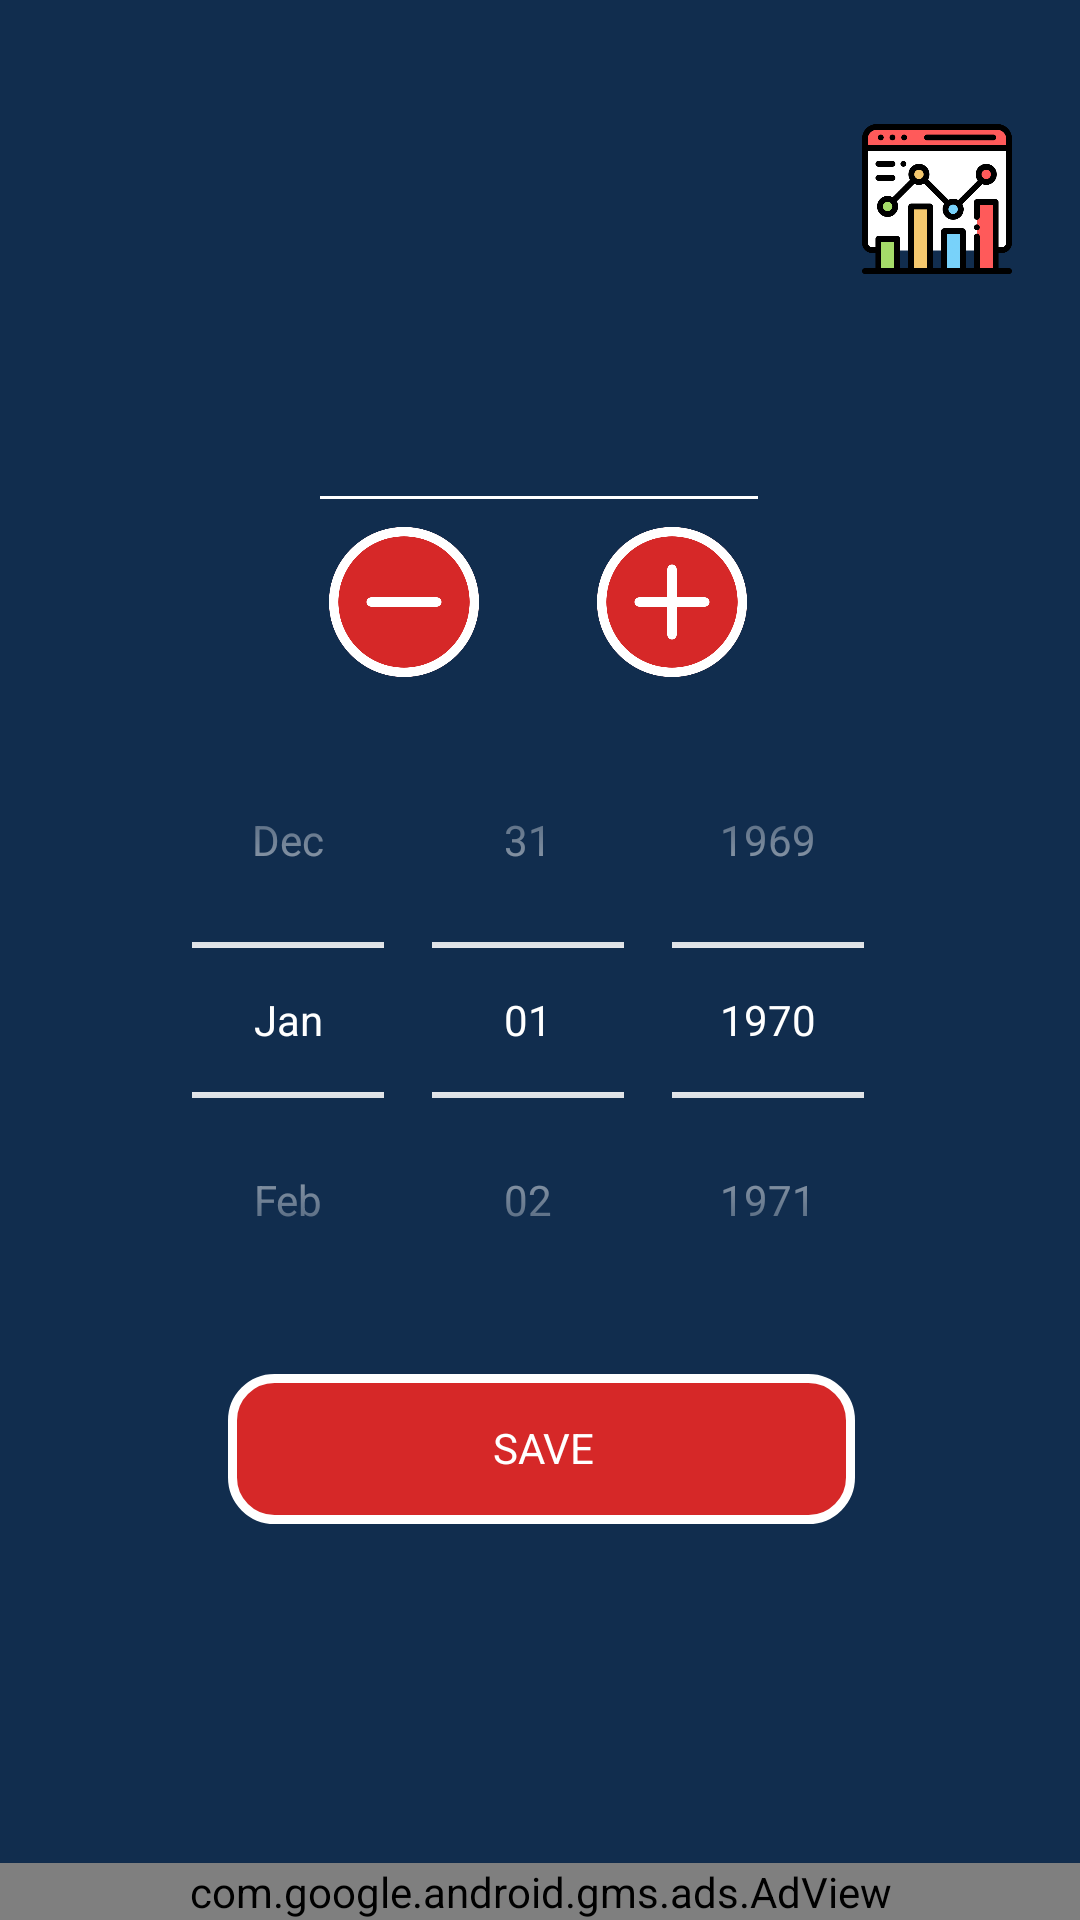

Icons on this 1080px x 1920px Android screen, each with its box as (x1, y1, x2, y2):
minus: (329, 527, 479, 677)
plus: (597, 527, 747, 677)
stats: (862, 124, 1012, 274)
